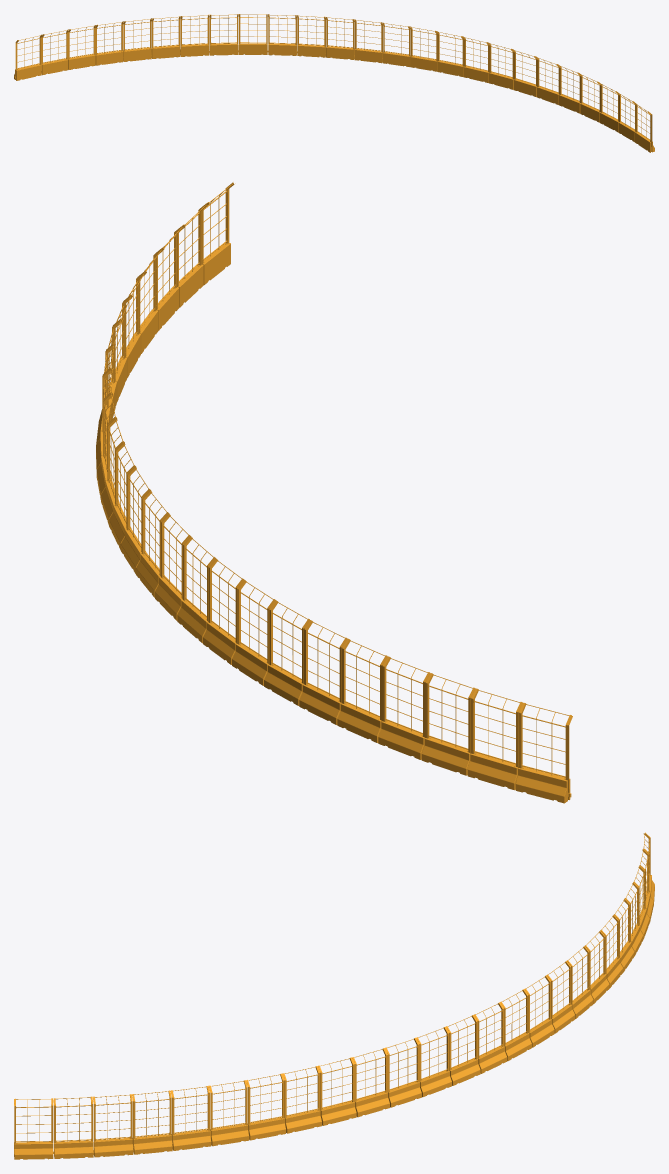
Rendered from SM_Fence_Road_Debrisguard_Bar_40m_Corner_Outer.fbx.
3 renders of one model, top to bottom at view 1: azimuth 30°, elevation 25°; view 2: azimuth 150°, elevation 25°; view 3: azimuth 270°, elevation 25°, orthographic. The views are drawn at different scales.
Visible parts, largest first — view 1: SM_Fence_Road_Debrisguard_Bar_40m_Corner_Outer; view 2: SM_Fence_Road_Debrisguard_Bar_40m_Corner_Outer; view 3: SM_Fence_Road_Debrisguard_Bar_40m_Corner_Outer.
Part boxes in pixels (left/top/right/bottom): SM_Fence_Road_Debrisguard_Bar_40m_Corner_Outer: left=14, top=14, right=654, bottom=152; SM_Fence_Road_Debrisguard_Bar_40m_Corner_Outer: left=96, top=182, right=572, bottom=803; SM_Fence_Road_Debrisguard_Bar_40m_Corner_Outer: left=14, top=832, right=654, bottom=1159.
Bounding box in the file's own units: 41.45 × 4.04 × 41.36.
